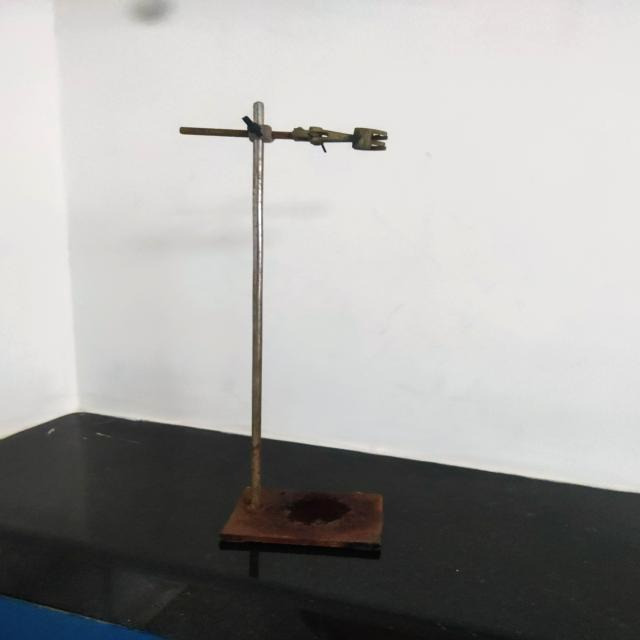Burette_Stands: (141, 81, 439, 588)
